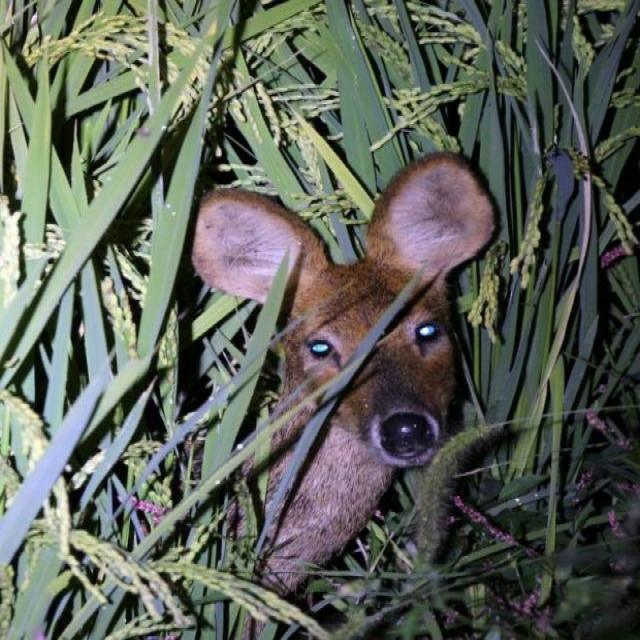deer: (136, 152, 509, 629)
